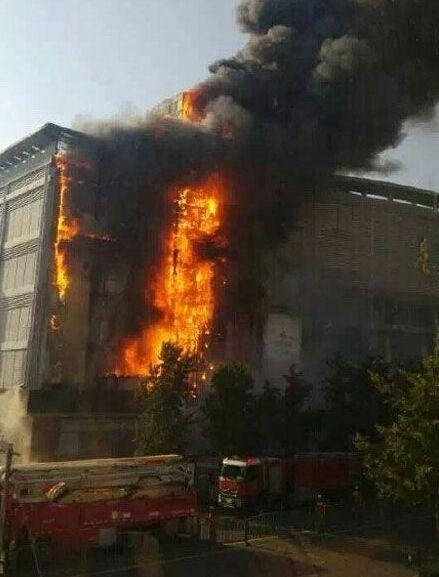fire: (126, 180, 230, 378), (49, 151, 77, 298)
